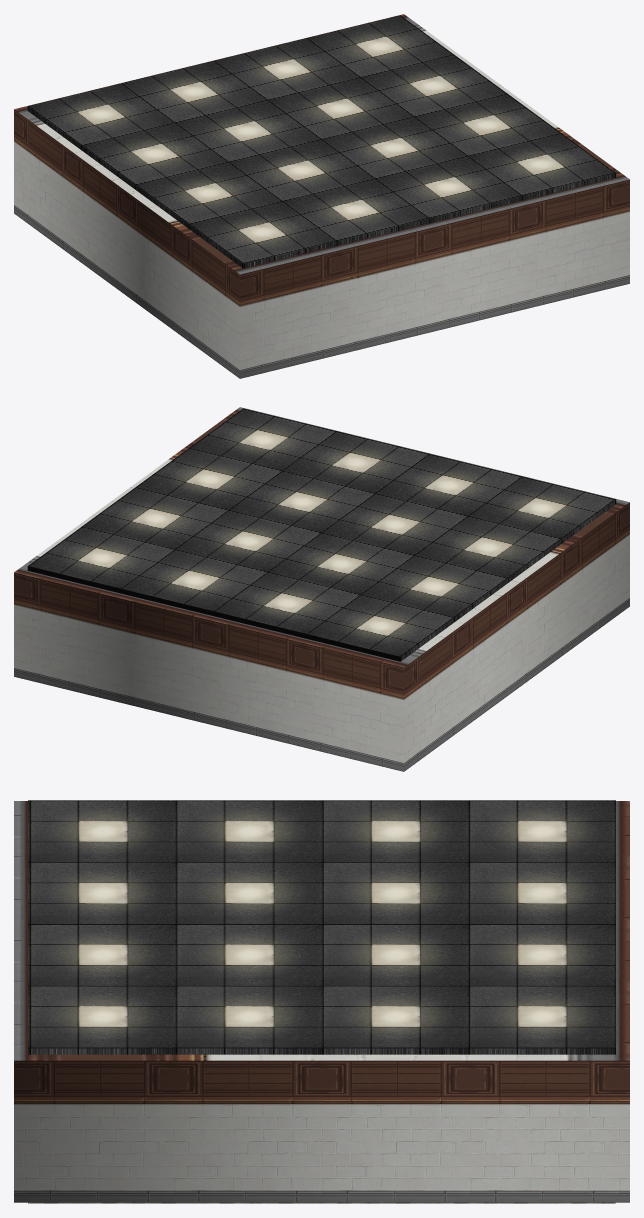
The model's file is Police_Station.glb.
3 renders of one model, top to bottom at view 1: azimuth 30°, elevation 25°; view 2: azimuth 150°, elevation 25°; view 3: azimuth 270°, elevation 25°, orthographic. The views are drawn at different scales.
Visible parts, largest first — view 1: Police_Station; view 2: Police_Station; view 3: Police_Station.
Part boxes in pixels (x1=…): Police_Station: x1=14, y1=14, x2=629, y2=378; Police_Station: x1=14, y1=407, x2=629, y2=771; Police_Station: x1=14, y1=800, x2=629, y2=1203.
Size of the model in its own units: 131 by 36.63 by 132.
19 materials, 19 textured.
